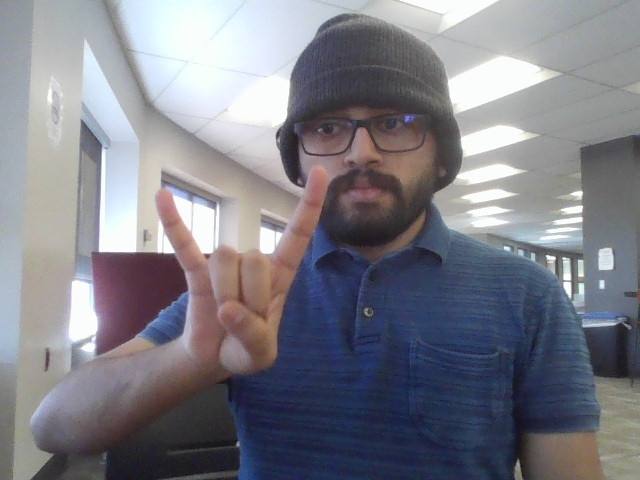help: (140, 147, 339, 386), (141, 148, 339, 384)
